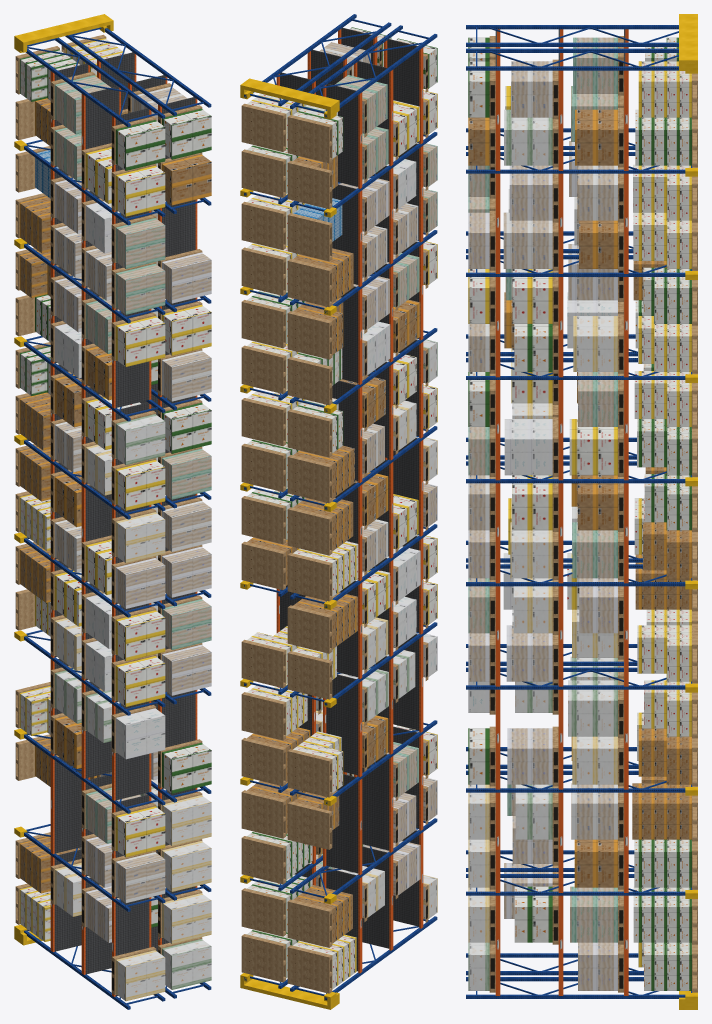
Rendered from racks_w4_n.gltf.
3 views of the same model, side by side, from view 1: azimuth 30°, elevation 25°; view 2: azimuth 150°, elevation 25°; view 3: azimuth 270°, elevation 25° (orthographic). The views are drawn at different scales.
Visible parts, largest first — view 1: racks_w4_n; view 2: racks_w4_n; view 3: racks_w4_n.
Part boxes in pixels (x1,y1,x2,y2): racks_w4_n: [14, 14, 211, 1009]; racks_w4_n: [240, 14, 437, 1009]; racks_w4_n: [466, 14, 697, 1009].
Bounding box in the file's own units: 2.6 × 24.86 × 5.5.
18 materials, 18 textured.
